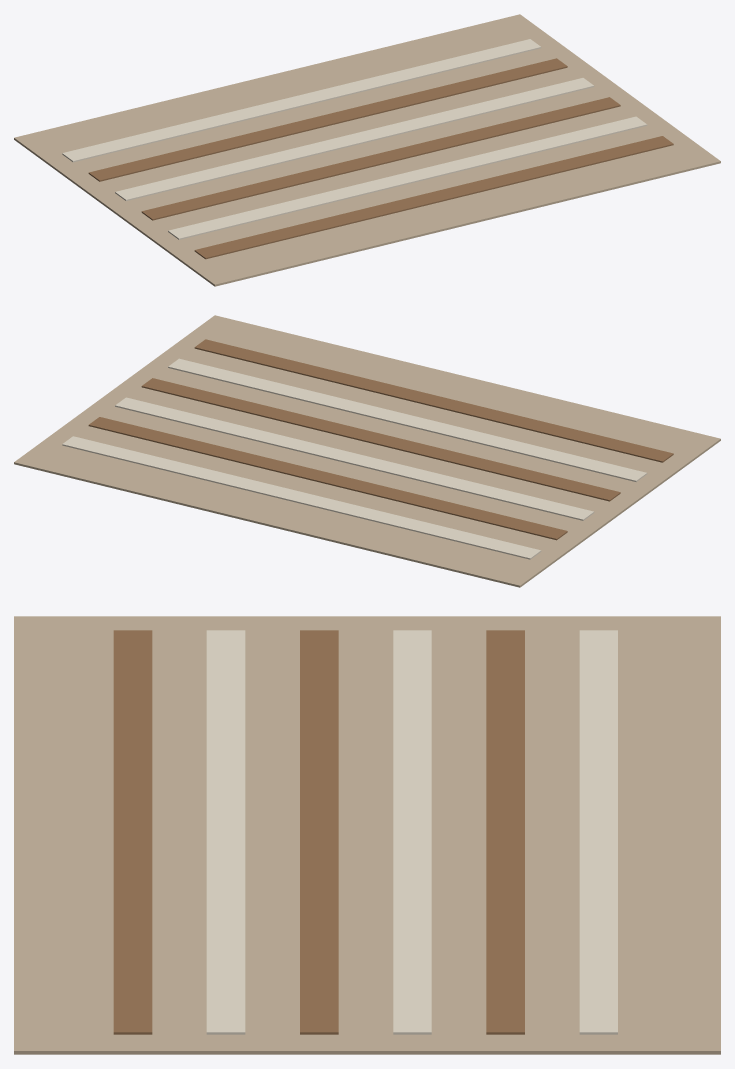
3 renders of one model, top to bottom at view 1: azimuth 30°, elevation 25°; view 2: azimuth 150°, elevation 25°; view 3: azimuth 270°, elevation 25°, orthographic. The views are drawn at different scales.
Parts seen in each view (by area): view 1: rug-base, stripe-4, stripe-0, stripe-1, stripe-3, stripe-5, stripe-2; view 2: rug-base, stripe-2, stripe-5, stripe-0, stripe-1, stripe-4, stripe-3; view 3: rug-base, stripe-4, stripe-5, stripe-0, stripe-1, stripe-2, stripe-3.
Part boxes in pixels (bbox=[...]): rug-base: bbox=[14, 14, 720, 286]; stripe-4: bbox=[168, 116, 647, 239]; stripe-0: bbox=[62, 39, 541, 162]; stripe-1: bbox=[88, 58, 567, 181]; stripe-3: bbox=[141, 97, 620, 220]; stripe-5: bbox=[194, 136, 673, 259]; stripe-2: bbox=[115, 78, 594, 201]; rug-base: bbox=[14, 315, 720, 587]; stripe-2: bbox=[115, 397, 594, 520]; stripe-5: bbox=[194, 339, 673, 462]; stripe-0: bbox=[62, 436, 541, 559]; stripe-1: bbox=[88, 417, 567, 540]; stripe-4: bbox=[168, 358, 647, 481]; stripe-3: bbox=[141, 378, 620, 501]; rug-base: bbox=[14, 616, 720, 1054]; stripe-4: bbox=[206, 630, 245, 1034]; stripe-5: bbox=[113, 630, 152, 1034]; stripe-0: bbox=[579, 630, 617, 1034]; stripe-1: bbox=[486, 630, 524, 1034]; stripe-2: bbox=[393, 630, 431, 1034]; stripe-3: bbox=[300, 630, 338, 1034].
Bounding box in the file's own units: 1.6 × 0.01 × 1.1.
